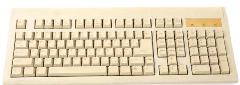electronic: (2, 7, 238, 85)
